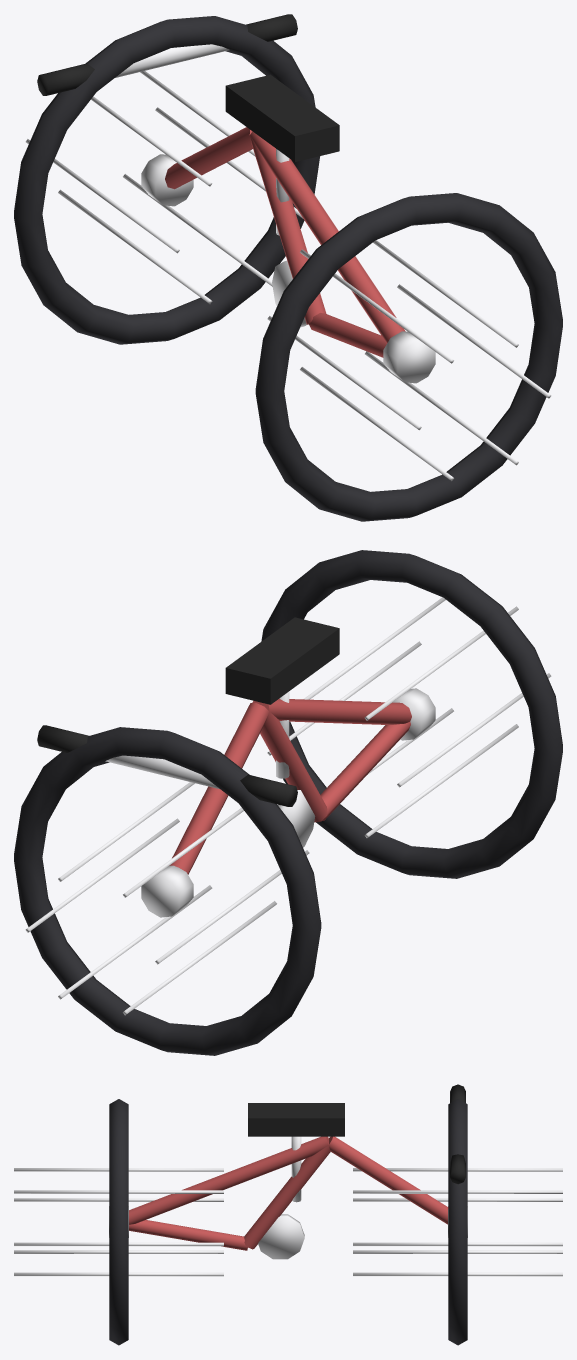
The model's file is WK_PRP_KidBike.glb.
The picture shows the model from 3 angles, top to bottom: view 1: azimuth 30°, elevation 25°; view 2: azimuth 150°, elevation 25°; view 3: azimuth 270°, elevation 25°; orthographic projection. The views are drawn at different scales.
Visible parts, largest first — view 1: WK_PRP_KidBike_P01, WK_PRP_KidBike_P09, WK_PRP_KidBike_P24, WK_PRP_KidBike_P17, WK_PRP_KidBike_P19, WK_PRP_KidBike_P18, WK_PRP_KidBike_P02, WK_PRP_KidBike_P20, WK_PRP_KidBike_P10, WK_PRP_KidBike_P21, WK_PRP_KidBike_P22, WK_PRP_KidBike_P23 (+10 smaller); view 2: WK_PRP_KidBike_P09, WK_PRP_KidBike_P01, WK_PRP_KidBike_P24, WK_PRP_KidBike_P18, WK_PRP_KidBike_P17, WK_PRP_KidBike_P20, WK_PRP_KidBike_P19, WK_PRP_KidBike_P10, WK_PRP_KidBike_P21, WK_PRP_KidBike_P02, WK_PRP_KidBike_P22, WK_PRP_KidBike_P23 (+12 smaller); view 3: WK_PRP_KidBike_P01, WK_PRP_KidBike_P09, WK_PRP_KidBike_P24, WK_PRP_KidBike_P17, WK_PRP_KidBike_P18, WK_PRP_KidBike_P19, WK_PRP_KidBike_P20, WK_PRP_KidBike_P26, WK_PRP_KidBike_P03, WK_PRP_KidBike_P08, WK_PRP_KidBike_P11, WK_PRP_KidBike_P16 (+10 smaller).
Part boxes in pixels (x1,y1,x2,y2): WK_PRP_KidBike_P01: (255,193,562,521); WK_PRP_KidBike_P09: (14,16,320,344); WK_PRP_KidBike_P24: (225,74,339,161); WK_PRP_KidBike_P17: (250,131,405,343); WK_PRP_KidBike_P19: (250,136,326,324); WK_PRP_KidBike_P18: (165,127,252,189); WK_PRP_KidBike_P02: (383,331,435,383); WK_PRP_KidBike_P20: (308,313,386,357); WK_PRP_KidBike_P10: (141,154,193,206); WK_PRP_KidBike_P21: (115,44,229,77); WK_PRP_KidBike_P22: (37,63,94,95); WK_PRP_KidBike_P23: (246,14,297,41); WK_PRP_KidBike_P09: (14,727,321,1055); WK_PRP_KidBike_P01: (261,550,562,878); WK_PRP_KidBike_P24: (225,617,339,704); WK_PRP_KidBike_P18: (169,703,269,874); WK_PRP_KidBike_P17: (252,698,411,724); WK_PRP_KidBike_P20: (320,722,410,820); WK_PRP_KidBike_P19: (260,712,327,822); WK_PRP_KidBike_P10: (141,865,193,917); WK_PRP_KidBike_P21: (105,755,219,788); WK_PRP_KidBike_P02: (392,688,435,740); WK_PRP_KidBike_P22: (240,774,297,806); WK_PRP_KidBike_P23: (37,725,88,752); WK_PRP_KidBike_P01: (109,1099,128,1345); WK_PRP_KidBike_P09: (448,1099,467,1345); WK_PRP_KidBike_P24: (248,1103,344,1136); WK_PRP_KidBike_P17: (129,1136,328,1224); WK_PRP_KidBike_P18: (329,1136,448,1224); WK_PRP_KidBike_P19: (244,1145,330,1249); WK_PRP_KidBike_P20: (129,1220,247,1250); WK_PRP_KidBike_P26: (258,1214,304,1259); WK_PRP_KidBike_P03: (14,1242,223,1246); WK_PRP_KidBike_P08: (14,1272,223,1276); WK_PRP_KidBike_P11: (353,1242,562,1246); WK_PRP_KidBike_P16: (353,1272,562,1276).
Size of the model in its own units: 0.616 by 0.616 by 1.36.
